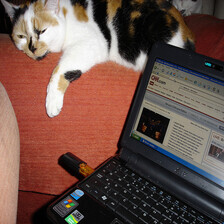laptop: (21, 44, 224, 224)
